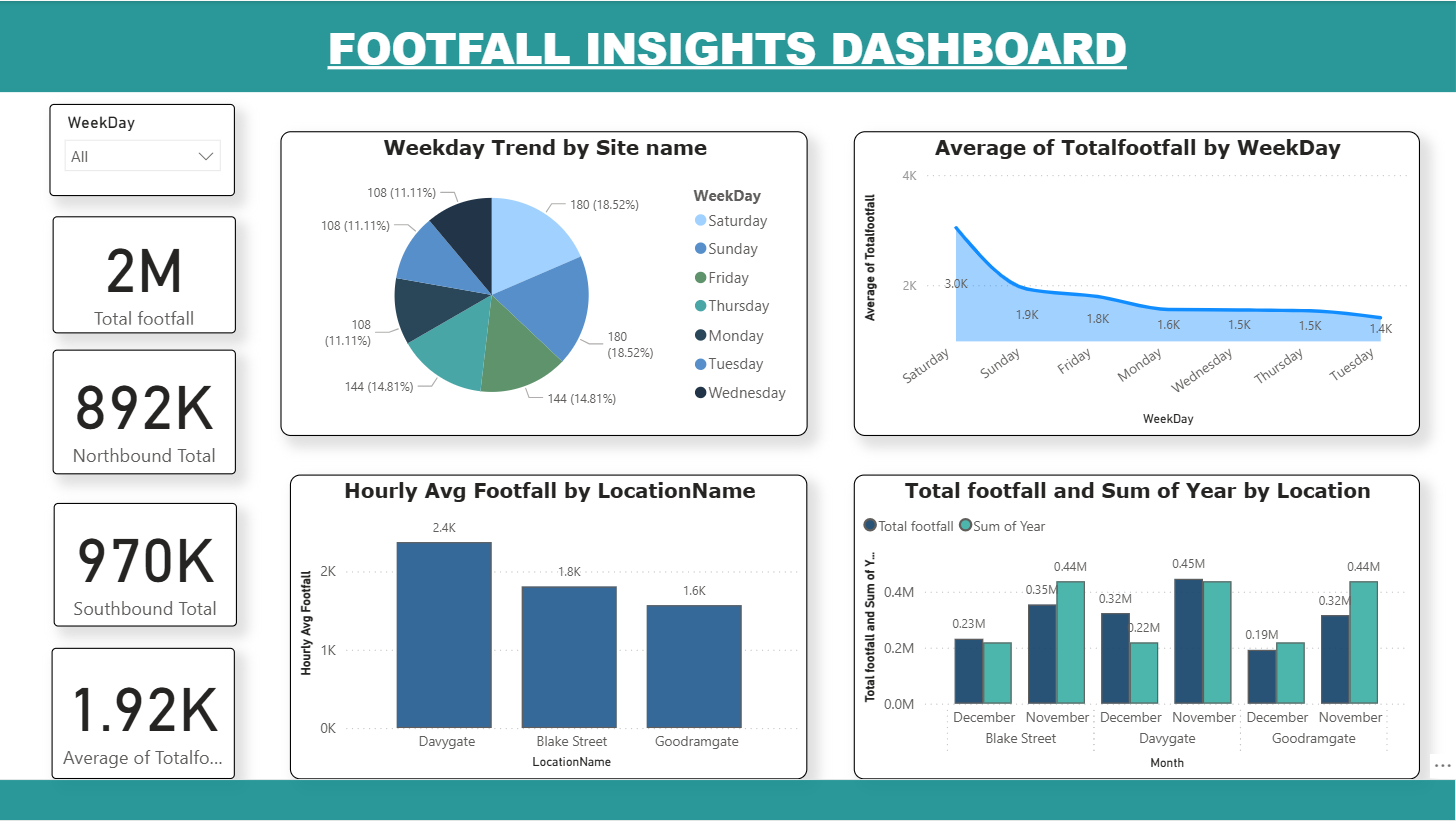

What the dashboard file says about the page in this screenshot:
{"tool":"powerbi","page":{"name":"Page 1","canvas":[1280,720],"ordinal":0},"visuals":[{"type":"card","fields":{"Values":["footfall data.Total footfall"]},"box":[47.9,189,161.3,103.2],"z":0},{"type":"card","fields":{"Values":["footfall data.Northbund Total"]},"box":[47.9,306.1,161.3,109.7],"z":1000},{"type":"card","fields":{"Values":["footfall data.Southbound Total"]},"box":[48.9,440.6,161.3,108.8],"z":2000},{"type":"clusteredColumnChart","title":"Total footfall and Sum of Year by Location ","fields":{"Y":["footfall data.Total footfall","Sum(footfall data.Year)"],"Category":["footfall data.LocationName","footfall data.Month"]},"box":[751.3,415.7,496.9,267.3],"z":3000},{"type":"pieChart","title":"Weekday Trend by Site name","fields":{"Y":["CountNonNull(footfall data.SiteName)"],"Category":["footfall data.WeekDay"]},"box":[248,114.3,462.8,267.3],"z":4000},{"type":"card","fields":{"Values":["footfall data.Average of Totalfootfall"]},"box":[47,567.9,161.3,115.2],"z":5000},{"type":"stackedAreaChart","fields":{"Category":["footfall data.WeekDay"],"Y":["footfall data.Average of Totalfootfall"]},"box":[751.3,114.3,496.9,267.3],"z":6000},{"type":"lineStackedColumnComboChart","fields":{"Y":["footfall data.Hourly Avg Footfall"],"Category":["footfall data.LocationName"]},"box":[256.3,415.7,454.5,267.3],"z":6001},{"type":"textbox","box":[0,0,1280.4,80.2],"z":6003},{"type":"textbox","box":[0,683.1,1280.4,36.9],"z":6004},{"type":"slicer","fields":{"Values":["footfall data.WeekDay"]},"box":[45.2,90.3,163.2,81.1],"z":6005}]}

Visuals, with their boxes in screenshot pixels (x1, y1, x2, y2), scaled from the page's 1280x720 canvas onto the 1456x821 screenshot:
card - footfall data.Total footfall: bbox(54, 216, 238, 333)
card - footfall data.Northbund Total: bbox(54, 349, 238, 474)
card - footfall data.Southbound Total: bbox(56, 502, 239, 626)
"Total footfall and Sum of Year by Location " clusteredColumnChart: bbox(855, 474, 1420, 779)
"Weekday Trend by Site name" pieChart: bbox(282, 130, 809, 435)
card - footfall data.Average of Totalfootfall: bbox(53, 648, 237, 779)
stackedAreaChart - footfall data.WeekDay x footfall data.Average of Totalfootfall: bbox(855, 130, 1420, 435)
lineStackedColumnComboChart - footfall data.Hourly Avg Footfall x footfall data.LocationName: bbox(292, 474, 809, 779)
textbox: bbox(0, 0, 1455, 91)
textbox: bbox(0, 779, 1455, 820)
slicer - footfall data.WeekDay: bbox(51, 103, 237, 195)
